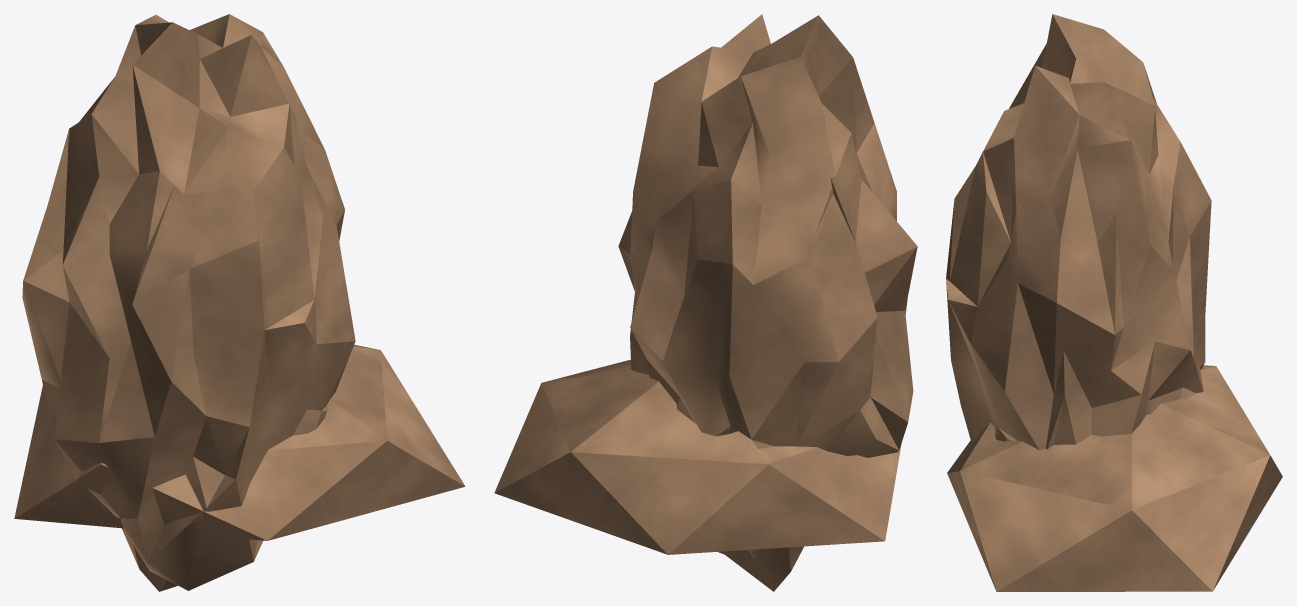
File: env_rock_b.glb
3 views of the same model, side by side, from view 1: azimuth 30°, elevation 25°; view 2: azimuth 150°, elevation 25°; view 3: azimuth 270°, elevation 25° (orthographic). The views are drawn at different scales.
Parts seen in each view (by area): view 1: env_rock_b; view 2: env_rock_b; view 3: env_rock_b.
Part boxes in pixels (x1=…): env_rock_b: x1=14, y1=14, x2=465, y2=591; env_rock_b: x1=494, y1=14, x2=917, y2=591; env_rock_b: x1=946, y1=14, x2=1282, y2=591.
Bounding box in the file's own units: 3.1 × 4.69 × 2.64.
1 material, 1 textured.
